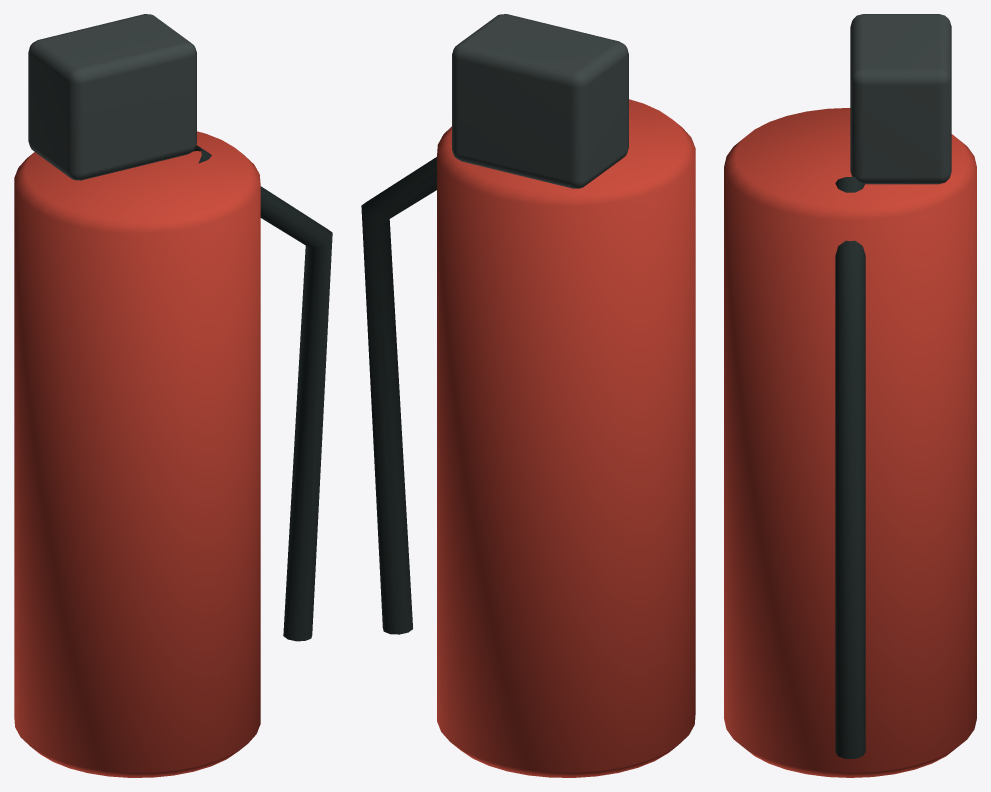
Rendered from SM_EG_FireExtinguisher_4ced63f611.fbx.
3 renders of one model, left to right at view 1: azimuth 30°, elevation 25°; view 2: azimuth 150°, elevation 25°; view 3: azimuth 270°, elevation 25°, orthographic. The views are drawn at different scales.
Parts seen in each view (by area): view 1: SM_EG_FireExtinguisher_4ced63f611; view 2: SM_EG_FireExtinguisher_4ced63f611; view 3: SM_EG_FireExtinguisher_4ced63f611.
Boxes of the visible parts, x1,y1,x2,y2 form: SM_EG_FireExtinguisher_4ced63f611: (14, 14, 332, 777); SM_EG_FireExtinguisher_4ced63f611: (361, 14, 695, 777); SM_EG_FireExtinguisher_4ced63f611: (724, 14, 976, 777).
Size of what is drawn, in the model's own units: 28.05 by 20 by 60.
